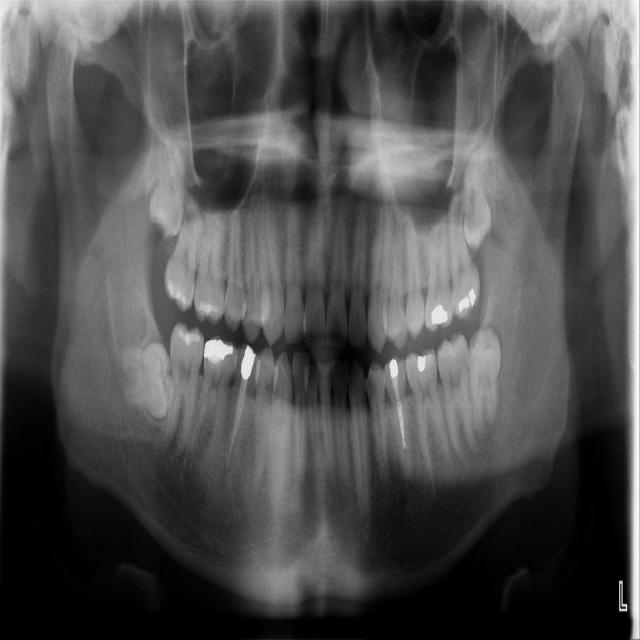Filling: (234, 341, 262, 396), (383, 353, 406, 402), (201, 339, 233, 365), (165, 280, 188, 307), (456, 287, 479, 314), (428, 303, 452, 327), (197, 293, 222, 316), (411, 351, 434, 375), (177, 328, 200, 344)
Root Canal Treatment: (229, 377, 246, 469), (394, 376, 404, 451)
impacted tooth: (117, 344, 171, 415), (148, 127, 183, 236), (468, 329, 502, 426), (460, 147, 491, 246)
